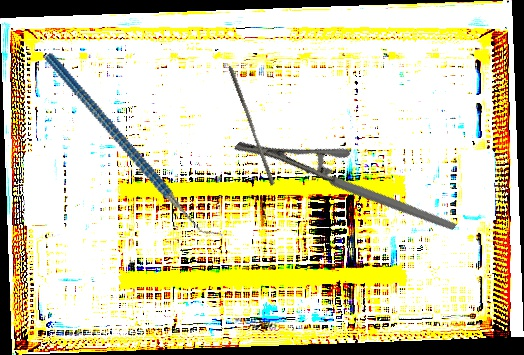Chopper: (43, 18, 225, 275)
Needle Holder: (232, 82, 458, 292)
Pusher: (222, 64, 280, 187)
